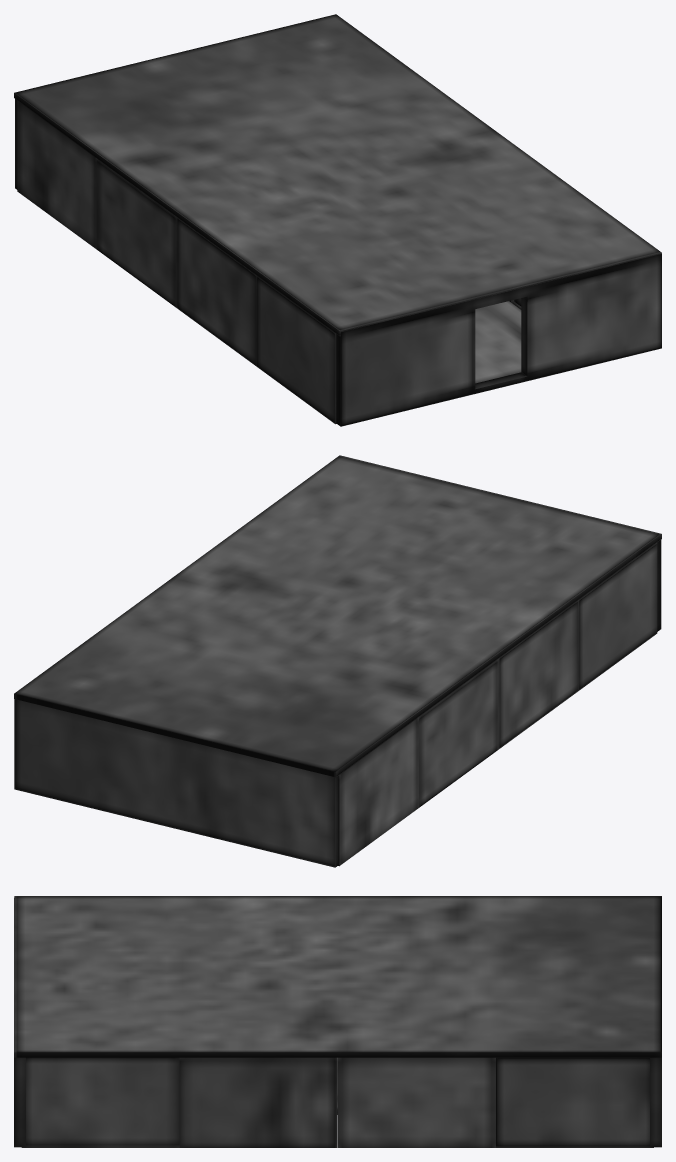
The model's file is CompletedPrisonWithCollisions2.fbx.
3 views of the same model, one above another, from view 1: azimuth 30°, elevation 25°; view 2: azimuth 150°, elevation 25°; view 3: azimuth 270°, elevation 25° (orthographic).
Visible parts, largest first — view 1: Prison; view 2: Prison; view 3: Prison.
Boxes of the visible parts, x1,y1,x2,y2 form: Prison: (14,14,661,426); Prison: (14,455,661,867); Prison: (14,896,661,1147).
Size of what is drawn, in the model's own units: 1085 by 310 by 1900.
Materials: 1 (1 with a texture image).
